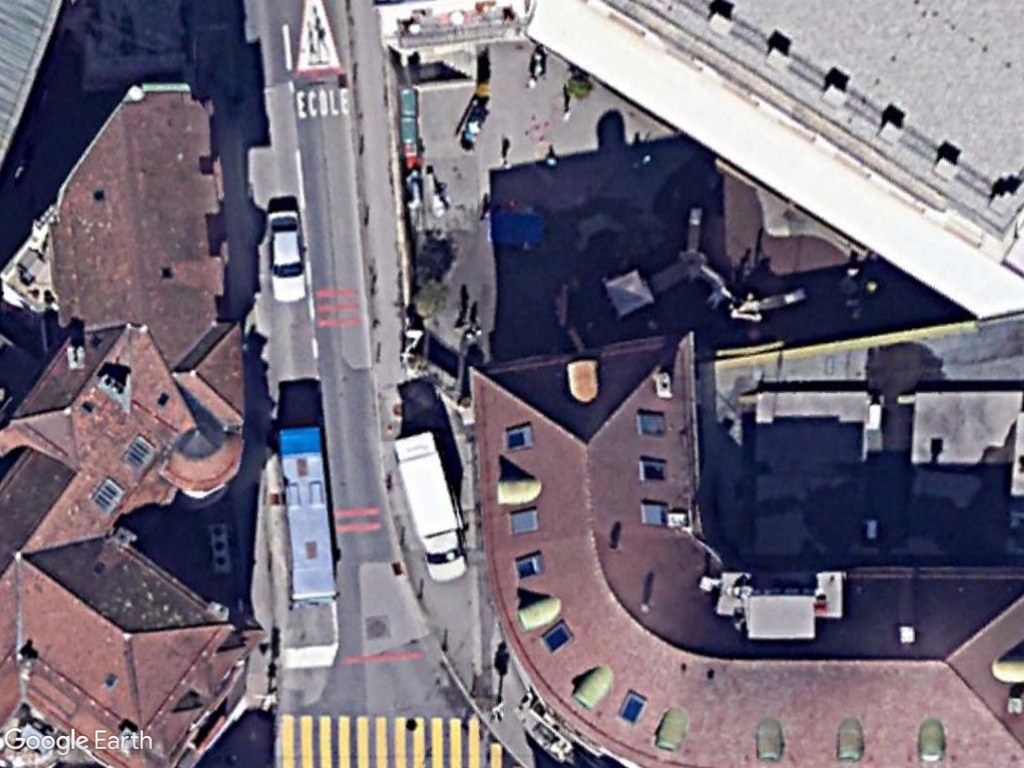bus: (274, 423, 342, 611)
car: (265, 208, 312, 306)
truck: (387, 431, 471, 584)
